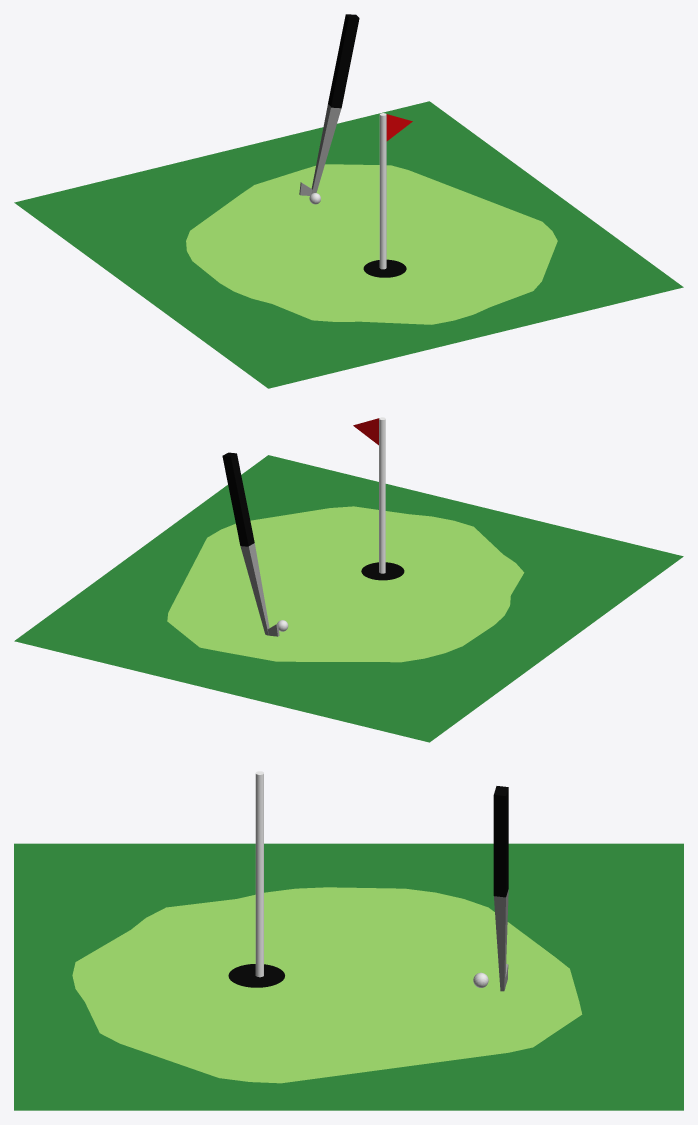
File: Golf.fbx
The picture shows the model from 3 angles, top to bottom: view 1: azimuth 30°, elevation 25°; view 2: azimuth 150°, elevation 25°; view 3: azimuth 270°, elevation 25°; orthographic projection. The views are drawn at different scales.
Parts seen in each view (by area): view 1: Plane, Circle, Cube.001, Cylinder, Cube, Circle.001; view 2: Plane, Circle, Cube.001, Cylinder, Cube, Circle.001; view 3: Plane, Circle, Cylinder, Cube.001, Circle.001, Cube.
Boxes of the visible parts, x1,y1,x2,y2 form: Plane: [14, 101, 683, 388]; Circle: [186, 164, 557, 324]; Cube.001: [328, 14, 359, 108]; Cylinder: [379, 113, 386, 269]; Cube: [311, 104, 341, 193]; Circle.001: [363, 259, 406, 277]; Plane: [14, 455, 683, 742]; Circle: [167, 506, 524, 662]; Cube.001: [222, 452, 254, 546]; Cylinder: [379, 417, 385, 573]; Cube: [240, 543, 269, 635]; Circle.001: [361, 562, 404, 580]; Plane: [14, 843, 683, 1110]; Circle: [72, 887, 582, 1083]; Cylinder: [255, 771, 263, 977]; Cube.001: [493, 786, 508, 897]; Circle.001: [228, 964, 284, 987]; Cube: [494, 889, 508, 991].
Bounding box in the file's own units: 1371 × 562 × 1454.
